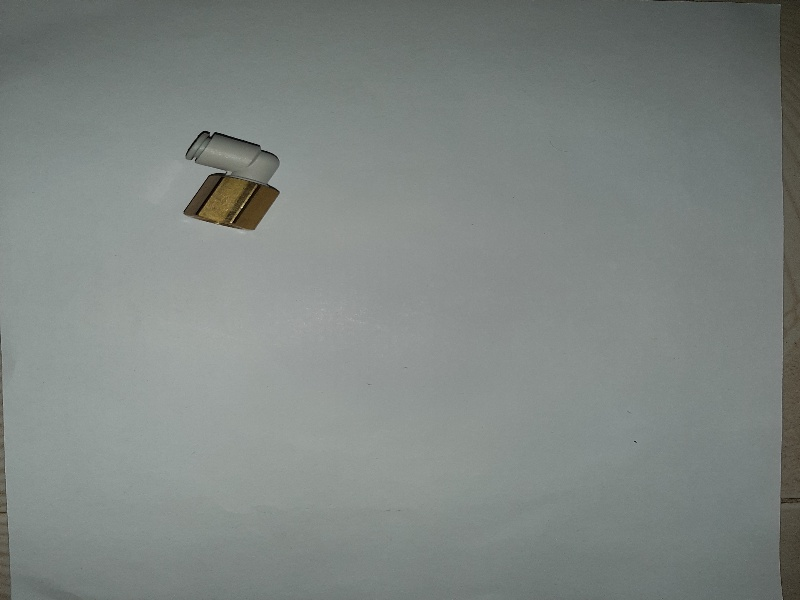Connector: (184, 125, 281, 235)
